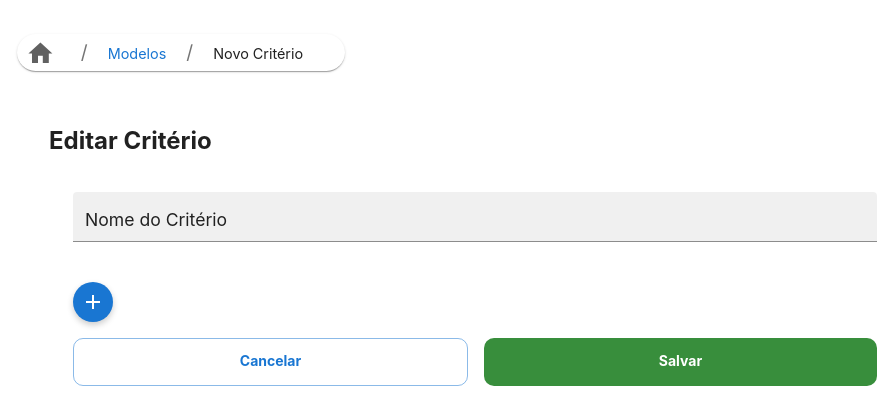
CriteriaEdit › shows a local error when the name is filled but no option was added
Type "Criterio Teste" into the field labelled "Nome do Critério" at (475, 217), box [73, 189, 877, 245]
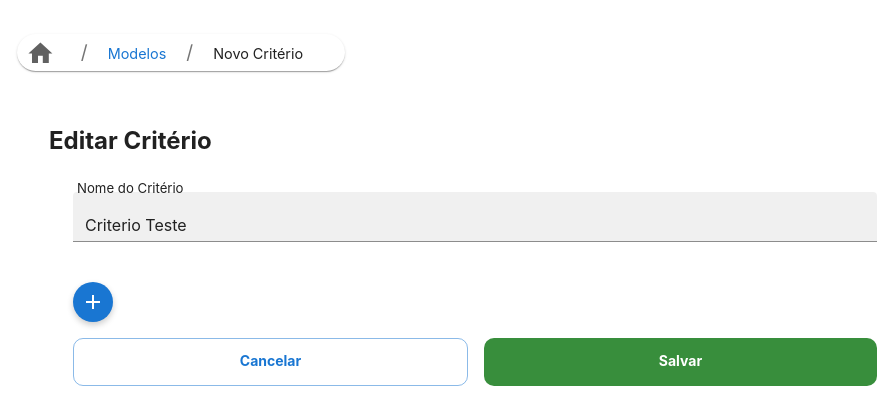
Click the button "Salvar" at (680, 362), box [484, 338, 877, 386]
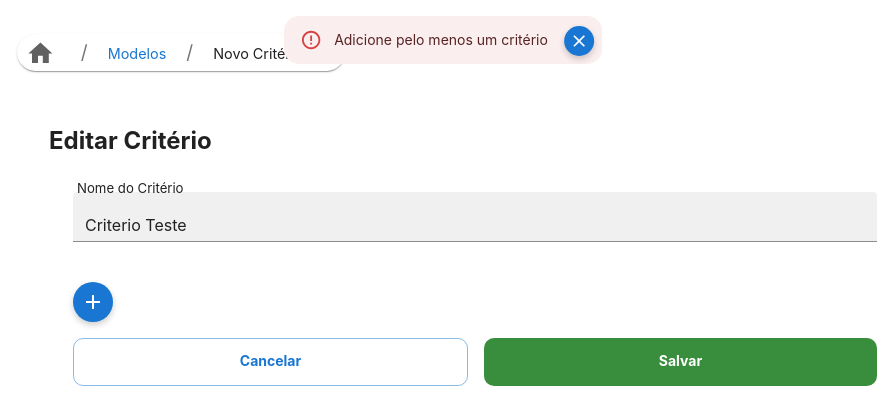
Check: the text "Adicione pelo menos um critério" is shown, box [334, 31, 548, 48]
